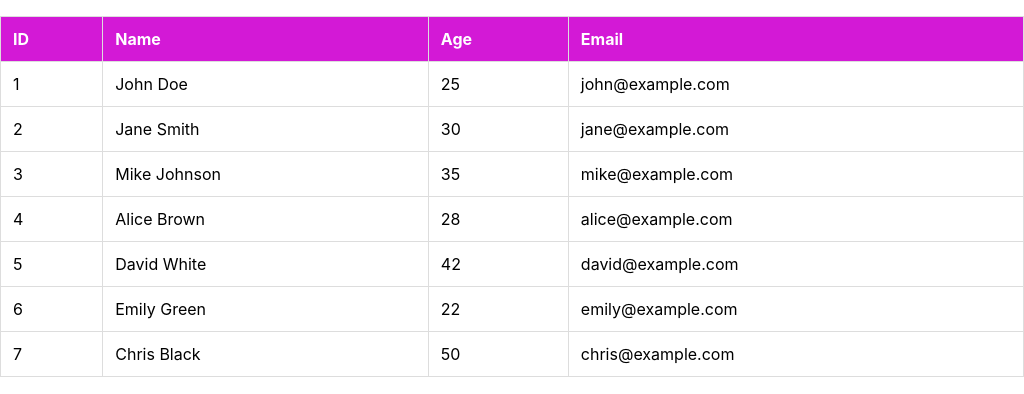
Scenario: sorts columns when header is clicked
The width and height of the screenshot is (1024, 394).
Check: the row "1 John Doe 25 john@example.com" is shown, box [0,62,1023,106]
Click the column heading "Name" at (266, 39), box [103,16,428,62]
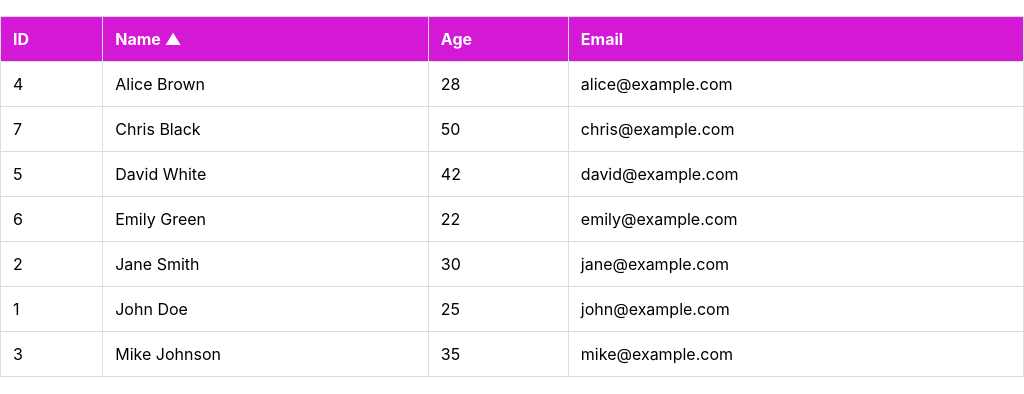
Check: the row "4 Alice Brown 28 alice@example.com" is shown, box [0,62,1023,106]
Click the column heading "Name" at (266, 39), box [103,16,428,62]
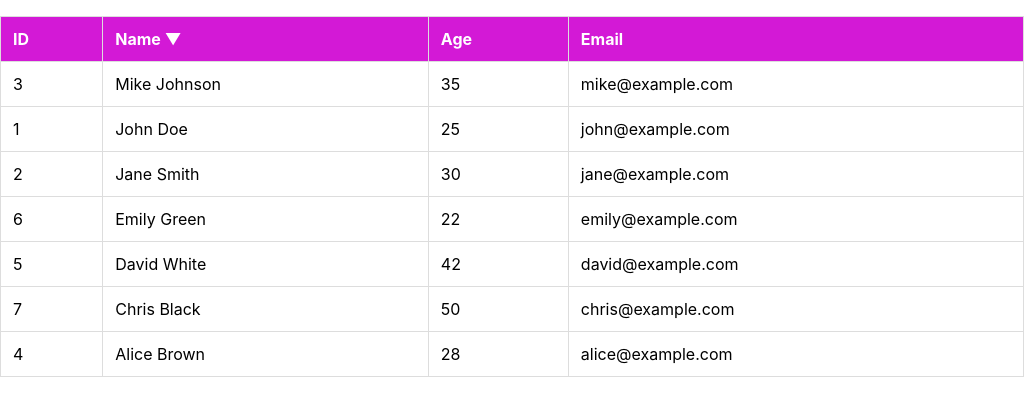
Check: the row "3 Mike Johnson 35 mike@example.com" is shown, box [0,62,1023,106]
